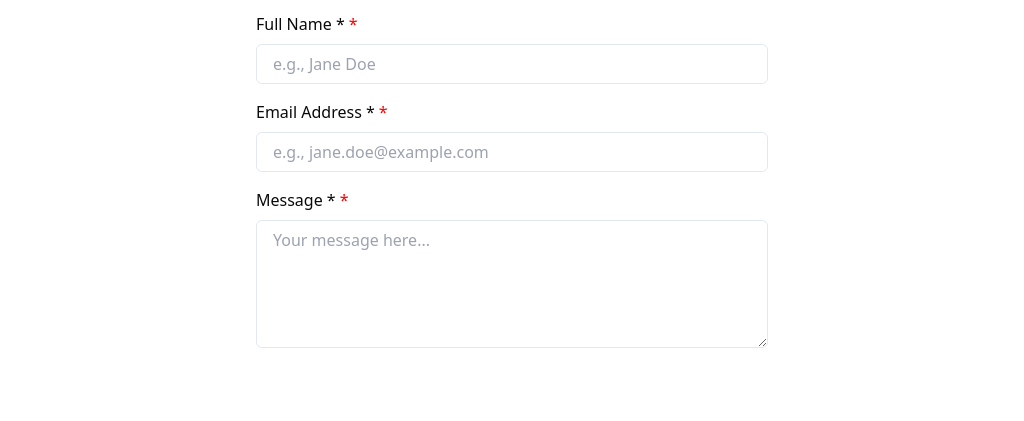
Test: ContactForm › Accessibility › should have no a11y violations when showing client-side errors
What coordinates should you click on to do the following:
click the field with placeholder "e.g., Jane Doe"
I would click on:
 (512, 64)
Its box is top-left (256, 44), bottom-right (768, 84).
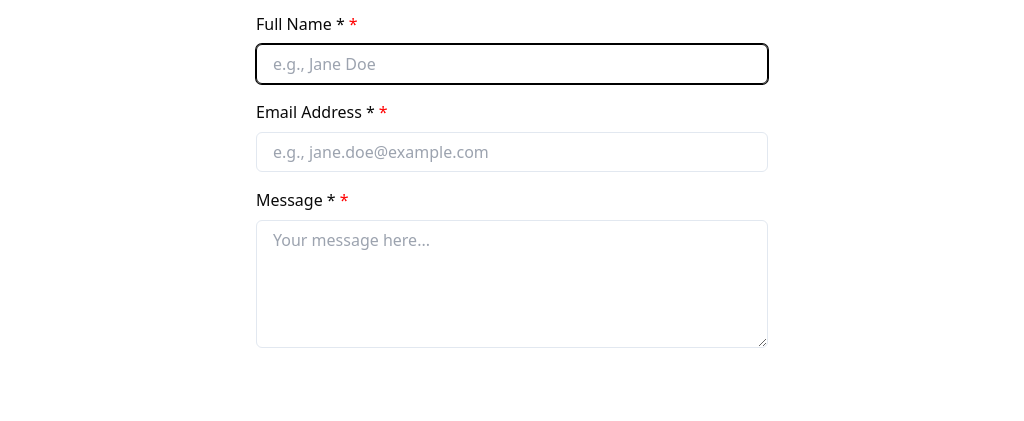
What coordinates should you click on to do the following:
click the element showing "Full Name ** Email Address ** Message ** Send Message"
I would click on:
 (512, 208)
Its box is top-left (0, 12), bottom-right (1023, 404).
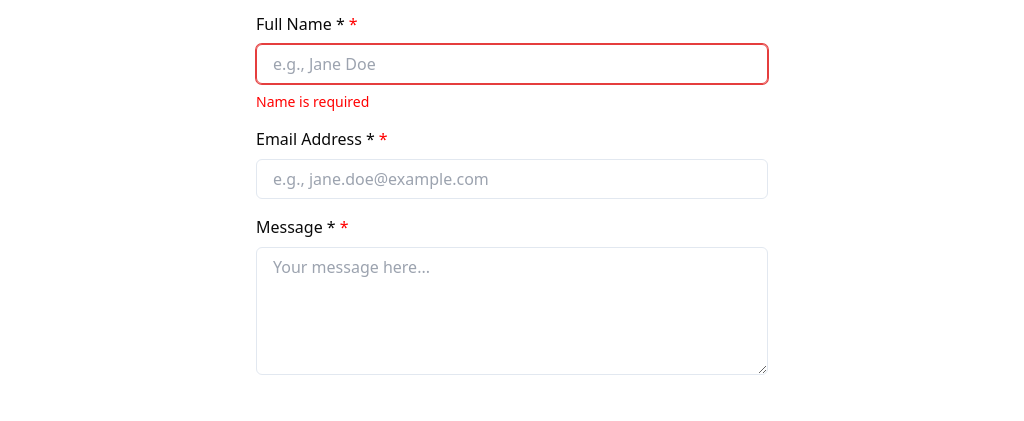
Now the message "Name is required" is shown, box top-left (256, 92), bottom-right (369, 111)
